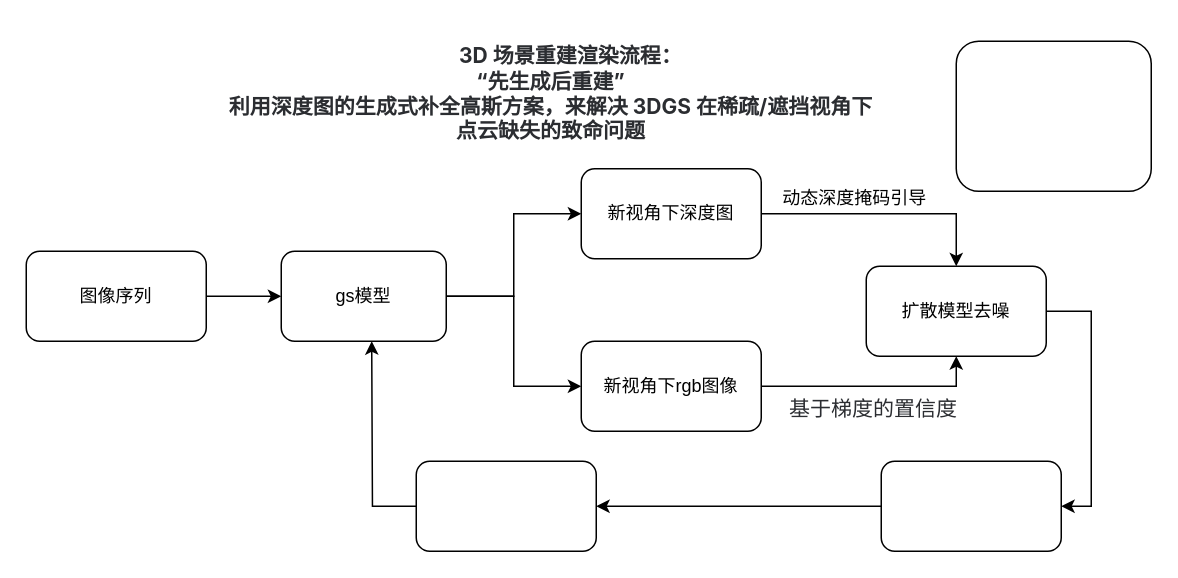
This 1178x578 diagram has some shape labels left out. Each missing label, with the centre of its shape:
动态迭代优化 高斯基元: the point at 505,505
数据集真值构建：采用掩码策略抽取20%真实相机位姿.: the point at 1053,115
补全的新视角RGB图: the point at 970,505
